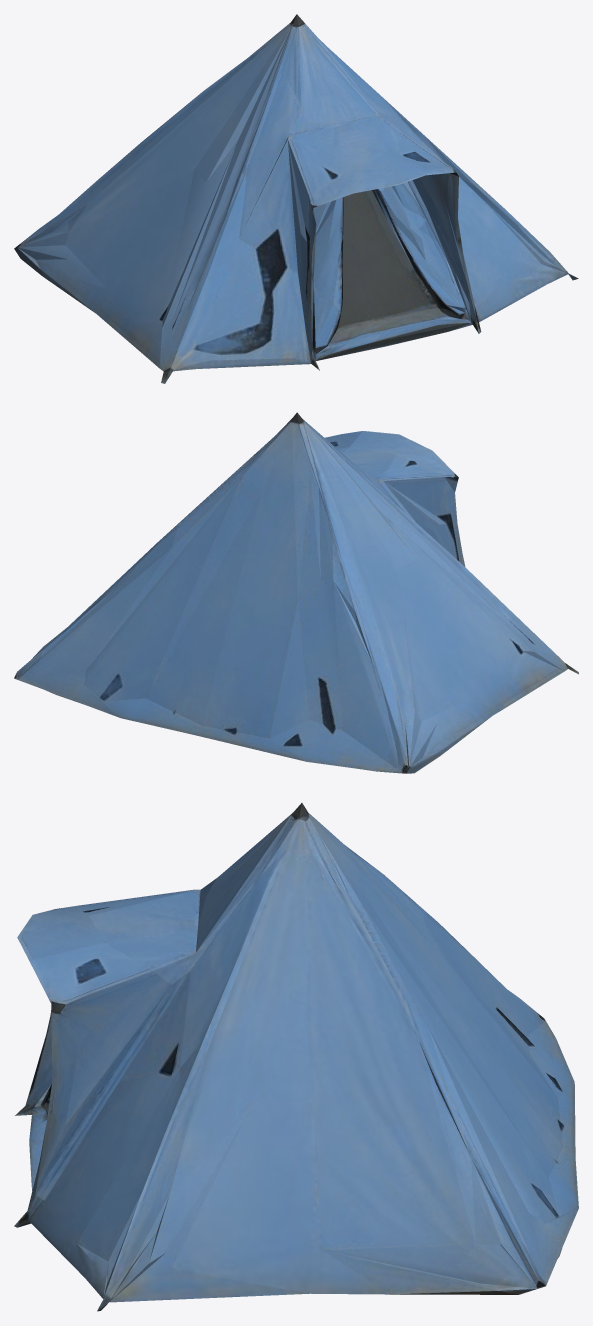
File: camp_tent.glb
3 renders of one model, top to bottom at view 1: azimuth 30°, elevation 25°; view 2: azimuth 150°, elevation 25°; view 3: azimuth 270°, elevation 25°, orthographic. The views are drawn at different scales.
Parts seen in each view (by area): view 1: ground; view 2: ground; view 3: ground.
Part boxes in pixels (x1=…): ground: x1=14, y1=14, x2=578, y2=383; ground: x1=14, y1=412, x2=578, y2=773; ground: x1=14, y1=803, x2=578, y2=1311.
Size of the model in its own units: 2.79 by 1.69 by 2.34.
Materials: 1 (1 with a texture image).
